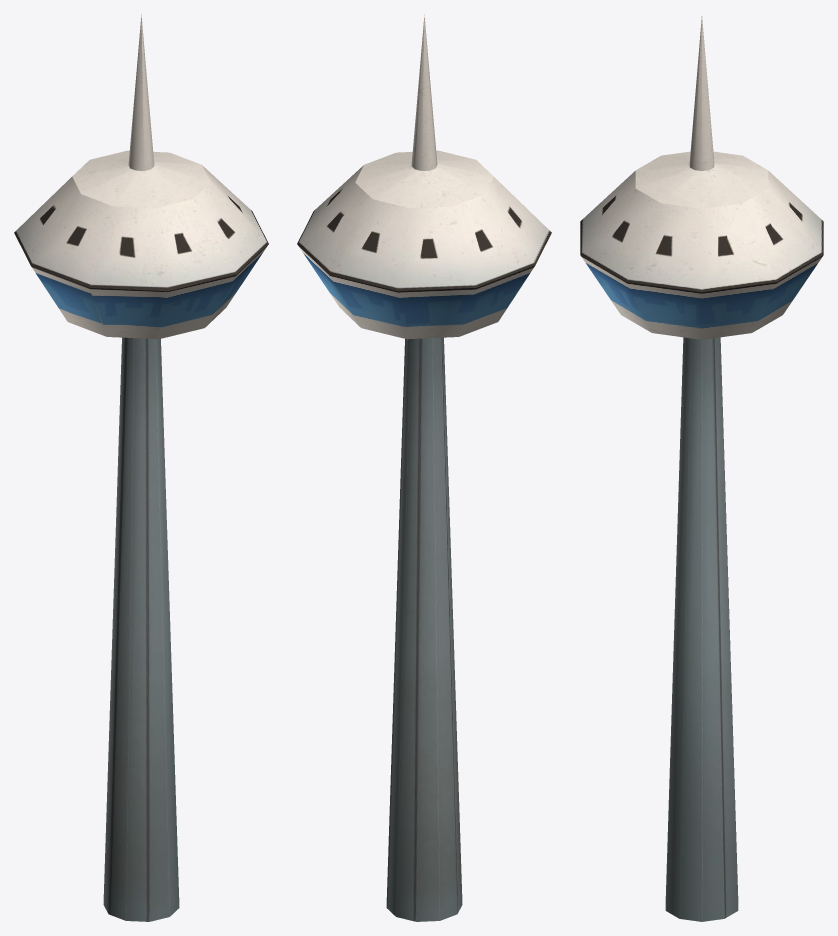
The model's file is House_9.fbx.
The picture shows the model from 3 angles, left to right: view 1: azimuth 30°, elevation 25°; view 2: azimuth 150°, elevation 25°; view 3: azimuth 270°, elevation 25°; orthographic projection.
Visible parts, largest first — view 1: House_9; view 2: House_9; view 3: House_9.
Boxes of the visible parts, bbox=[...] form: House_9: bbox=[14, 14, 268, 921]; House_9: bbox=[297, 14, 551, 921]; House_9: bbox=[580, 16, 823, 921].
Size of the model in its own units: 39.96 by 153 by 38.01.
Materials: 1 (1 with a texture image).
